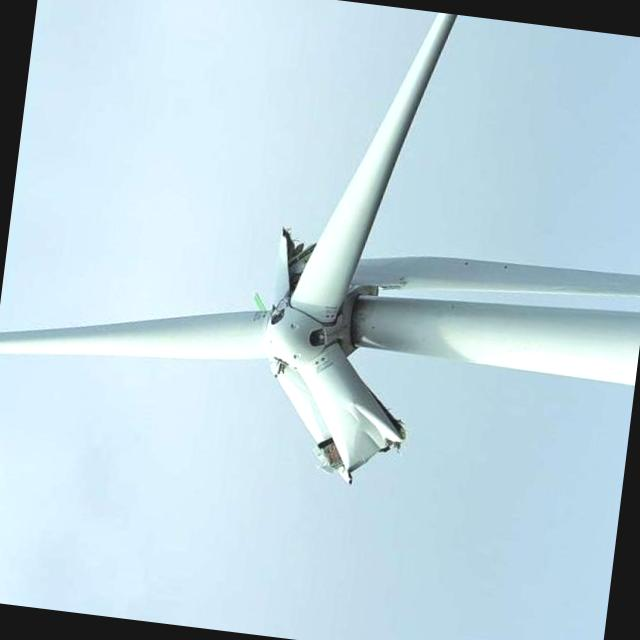crack: (224, 192, 483, 502)
